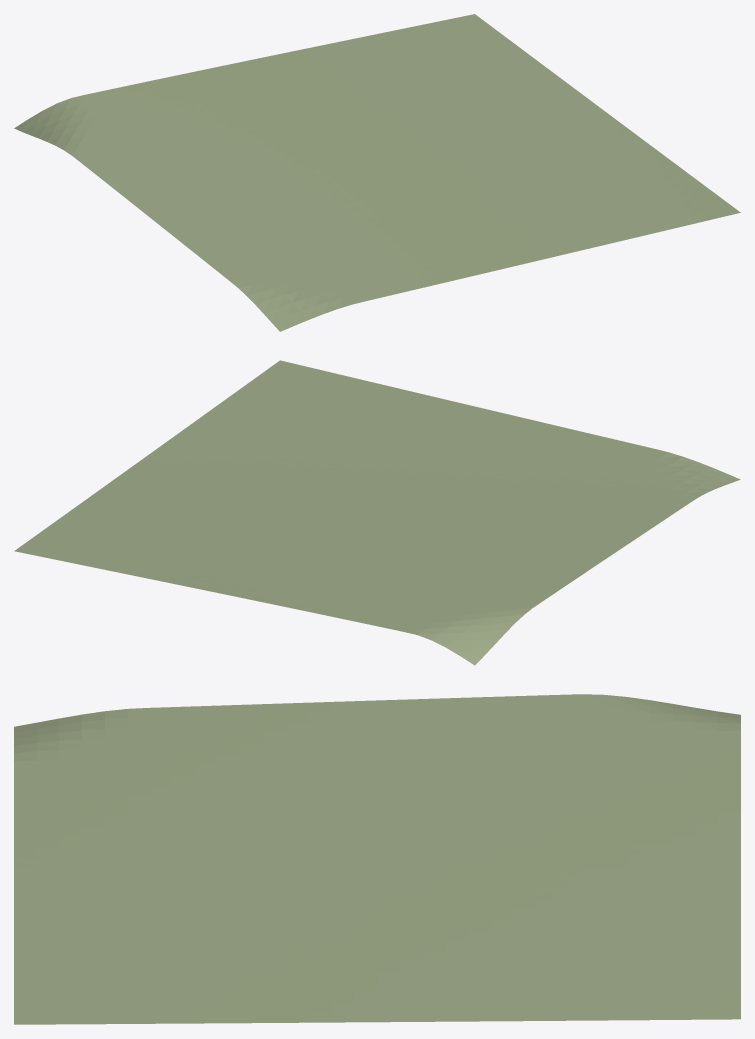
Rendered from gardens-2-3.glb.
3 renders of one model, top to bottom at view 1: azimuth 30°, elevation 25°; view 2: azimuth 150°, elevation 25°; view 3: azimuth 270°, elevation 25°, orthographic. The views are drawn at different scales.
Visible parts, largest first — view 1: gardens-2-3; view 2: gardens-2-3; view 3: gardens-2-3.
Part boxes in pixels (x1,y1,x2,y2): gardens-2-3: (14,14,740,331); gardens-2-3: (14,360,740,665); gardens-2-3: (14,694,740,1024).
Bounding box in the file's own units: 256 × 13.38 × 256.
